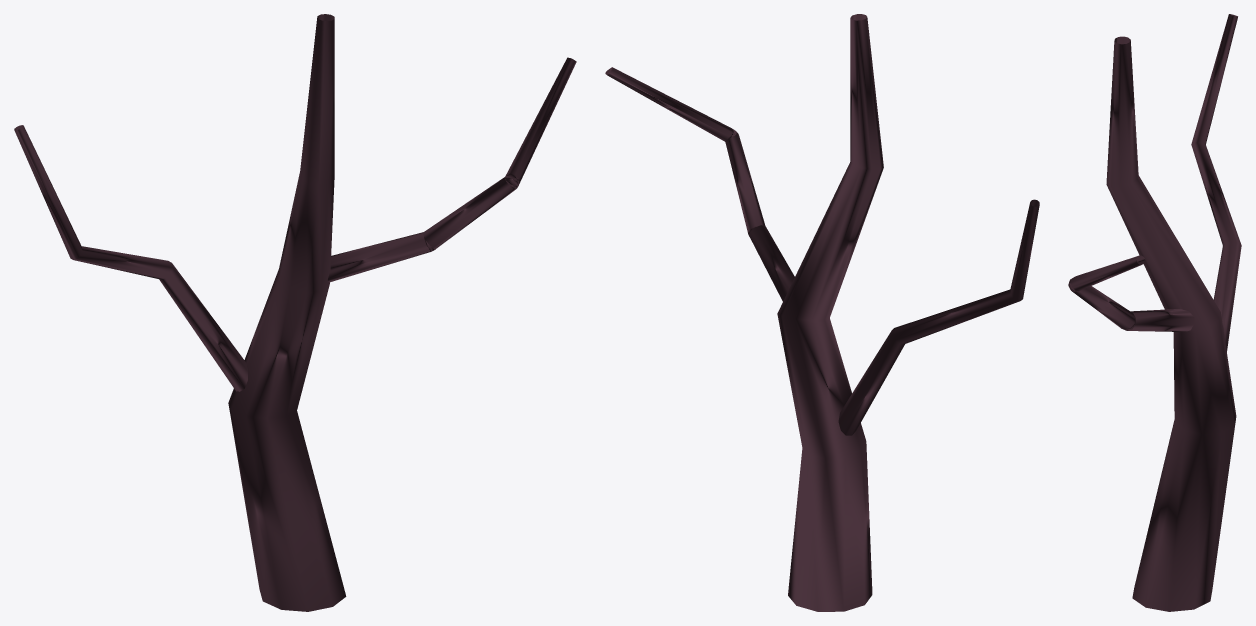
Rendered from tree_bare_1.glb.
3 views of the same model, side by side, from view 1: azimuth 30°, elevation 25°; view 2: azimuth 150°, elevation 25°; view 3: azimuth 270°, elevation 25° (orthographic). The views are drawn at different scales.
Parts seen in each view (by area): view 1: tree_bare_1; view 2: tree_bare_1; view 3: tree_bare_1.
Boxes of the visible parts, x1=… form: tree_bare_1: x1=14, y1=14, x2=576, y2=611; tree_bare_1: x1=605, y1=14, x2=1039, y2=611; tree_bare_1: x1=1068, y1=14, x2=1241, y2=611.
Bounding box in the file's own units: 4.93 × 5.5 × 1.56.
Materials: 1 (1 with a texture image).
